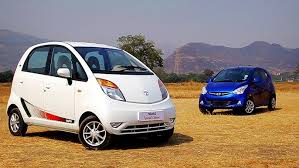Nano: (5, 42, 176, 148)
